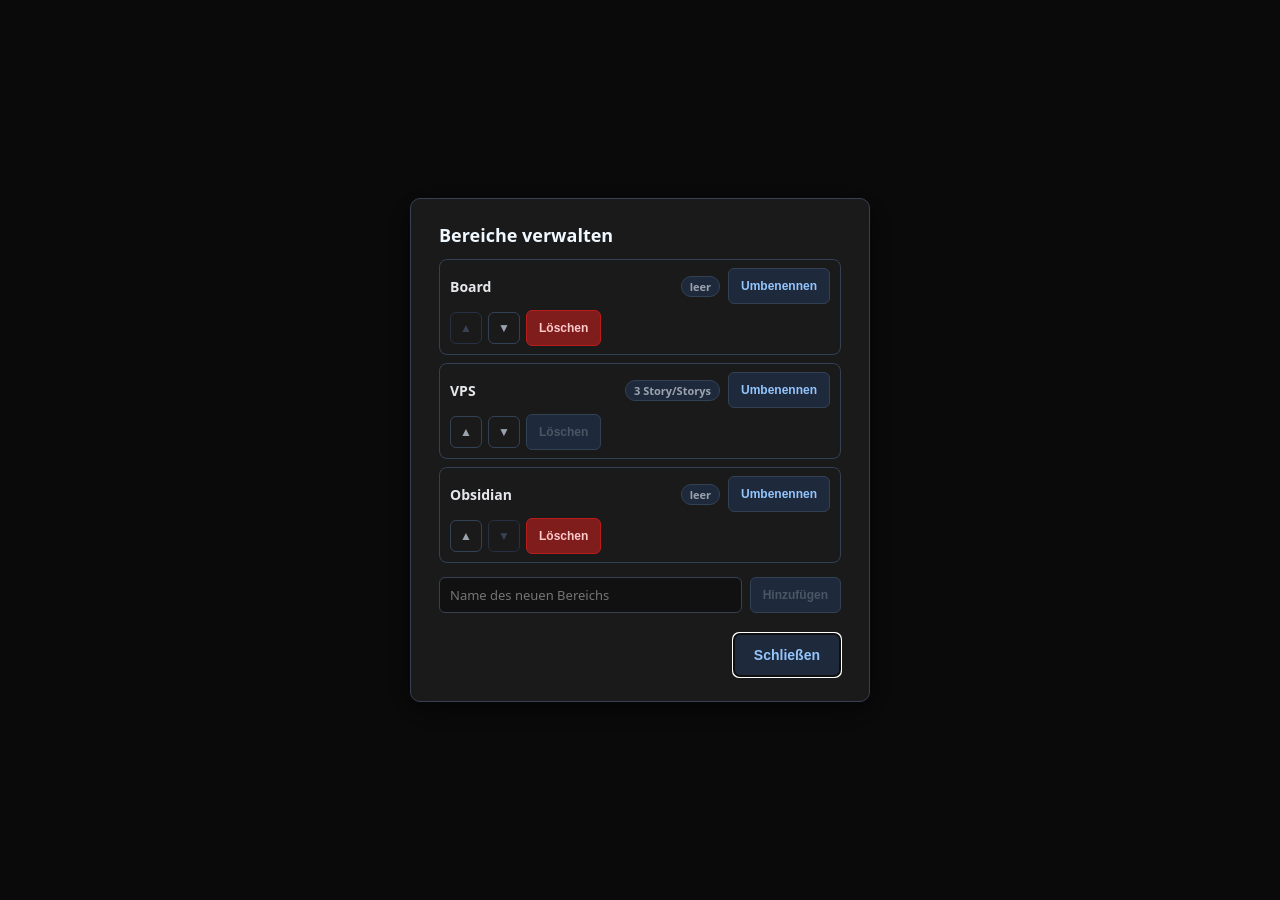
bereichs-modell AC8 — Bereichsliste + Mutationen › Anlegen: 400-Fehler (Duplikat) erscheint nicht-blockierend, Liste bleibt
Expected: the dialog with test id "areas-manage-dialog" is shown, x1=410 y1=198 x2=870 y2=702
Expected: the number of list items with test id "areas-manage-row" is 3, x1=439 y1=259 x2=841 y2=355; x1=439 y1=363 x2=841 y2=459; x1=439 y1=467 x2=841 y2=563
Type "Board" into the field with test id "areas-manage-new-name-input". click: (590, 595)
box: x1=439 y1=577 x2=742 y2=613
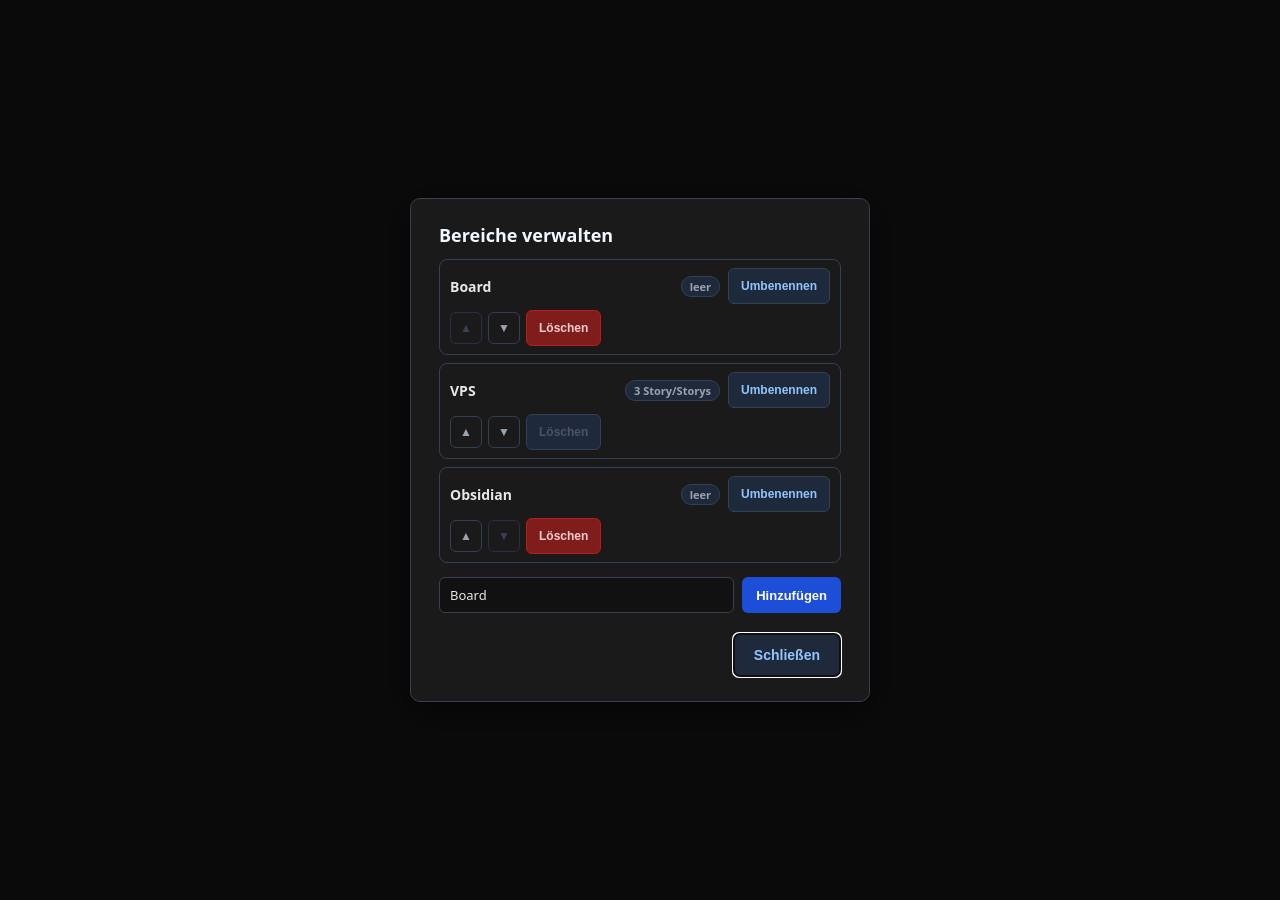
Click the button with test id "areas-manage-add-btn". click: (792, 595)
box: x1=742 y1=577 x2=841 y2=613
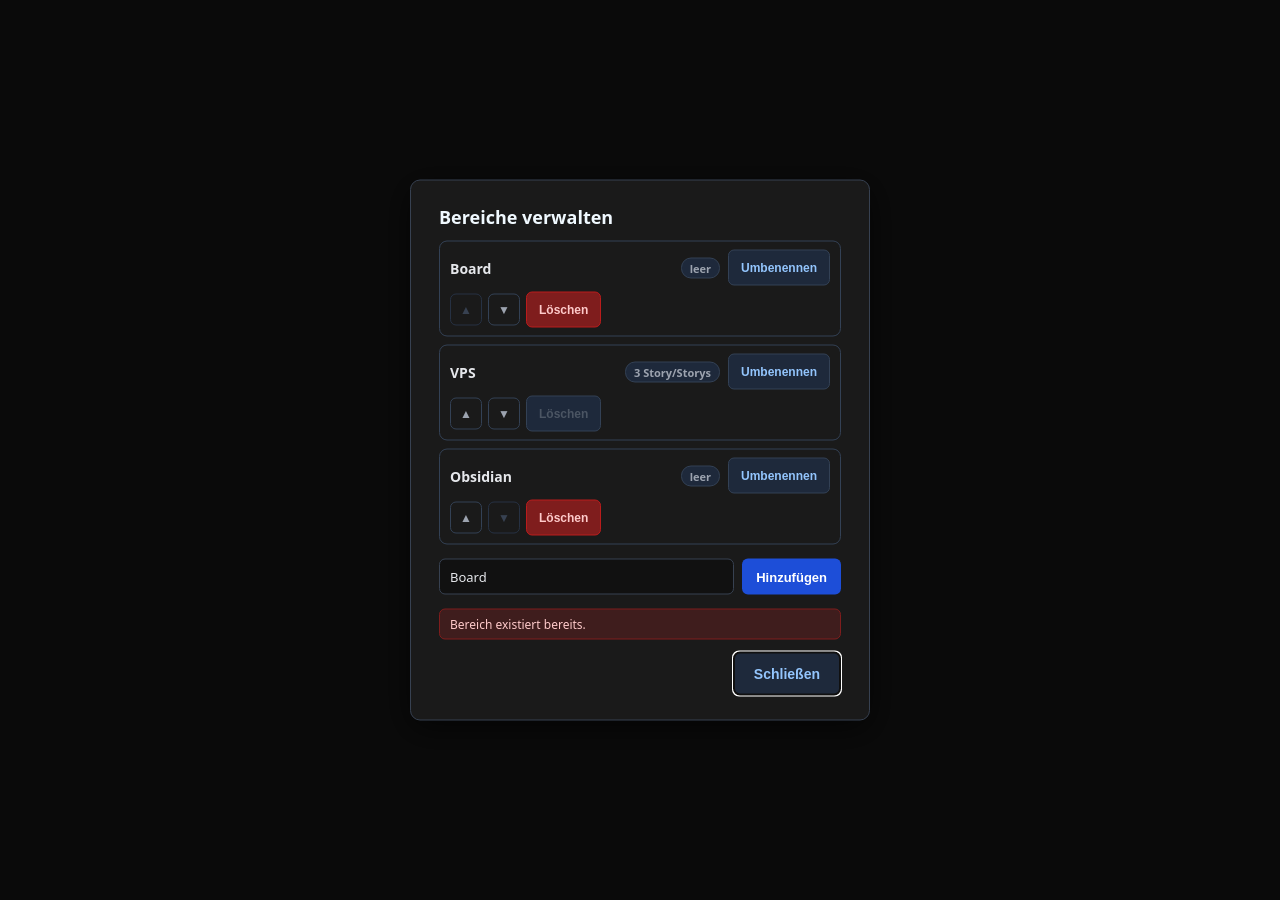
Expected: the number of list items with test id "areas-manage-row" is 3, x1=439 y1=240 x2=841 y2=336; x1=439 y1=344 x2=841 y2=440; x1=439 y1=448 x2=841 y2=544
Result: the message "Bereich existiert bereits." is shown at x1=439 y1=608 x2=841 y2=640
Result: the message with test id "areas-manage-add-error" shows "existiert bereits" at x1=450 y1=616 x2=586 y2=632
